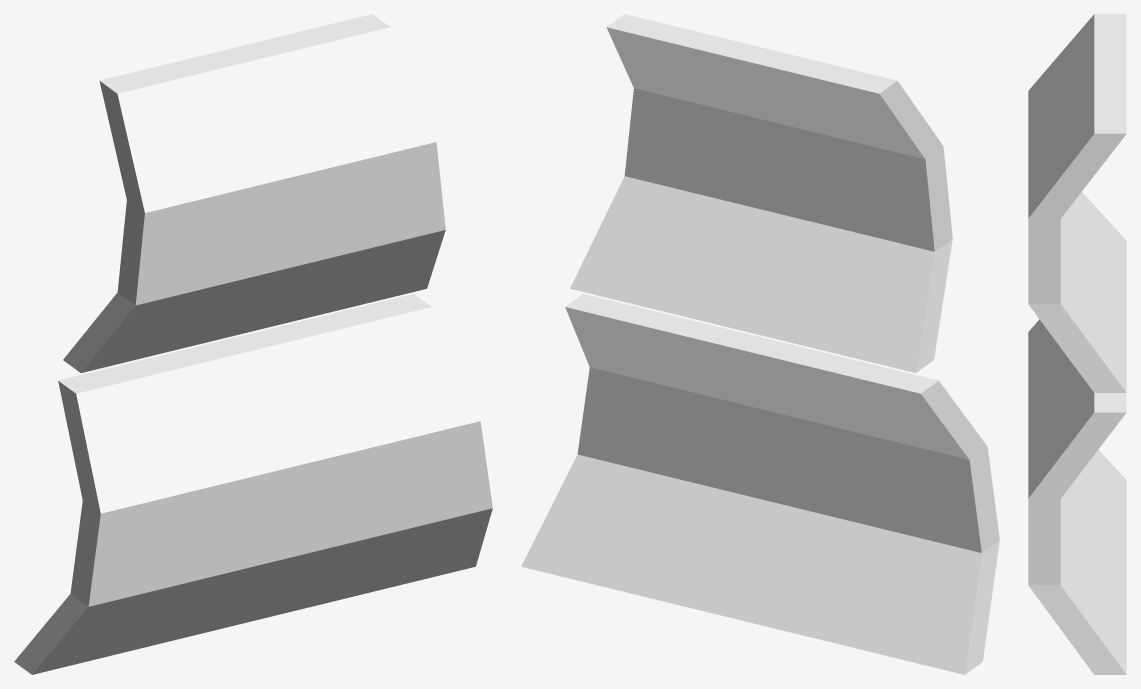
The model's file is sail.obj.
3 renders of one model, left to right at view 1: azimuth 30°, elevation 25°; view 2: azimuth 150°, elevation 25°; view 3: azimuth 270°, elevation 25°, orthographic. The views are drawn at different scales.
Visible parts, largest first — view 1: Sail; view 2: Sail; view 3: Sail.
Boxes of the visible parts, left/top/right/bottom form: Sail: left=14, top=14, right=492, bottom=674; Sail: left=521, top=14, right=999, bottom=674; Sail: left=1028, top=14, right=1126, bottom=674.
Size of the model in its own units: 1.4 by 1.69 by 0.2999.
Materials: 1 (1 with a texture image).
